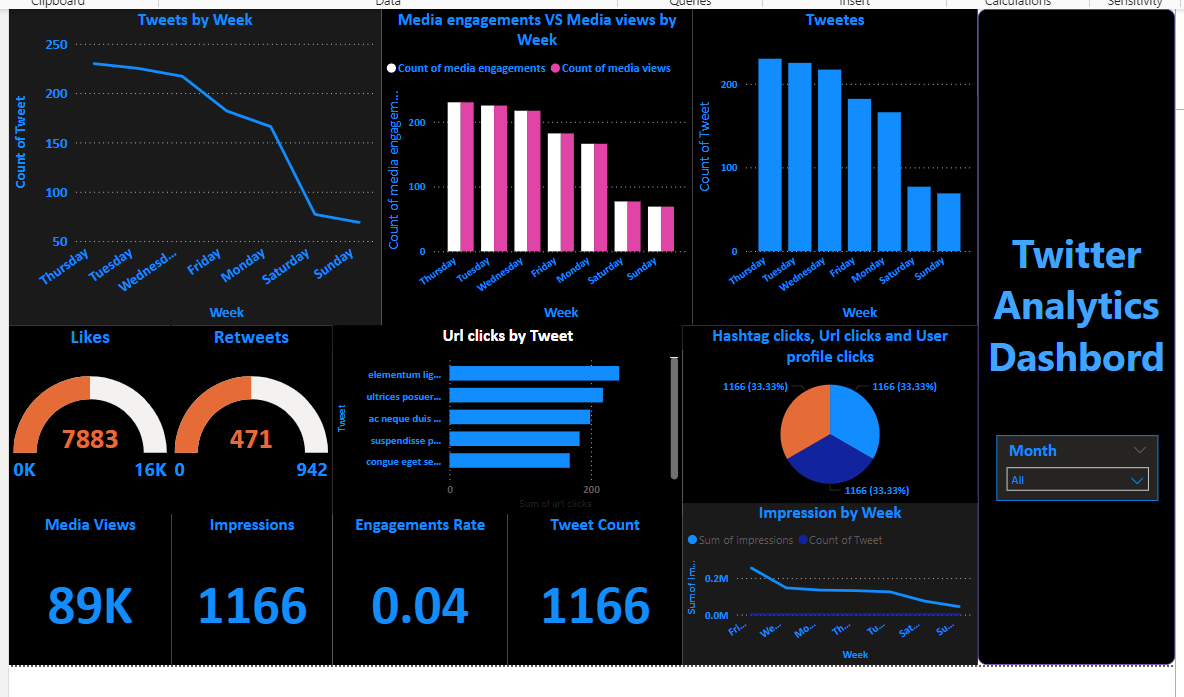

The page's visual inventory and layout, read from the dashboard file:
{"tool":"powerbi","page":{"name":"Page 1","canvas":[1280,720],"ordinal":0},"visuals":[{"type":"textbox","box":[1062.9,0,217.1,720],"z":0},{"type":"card","title":"Media Views","fields":{"Values":["Sum(SocialMedia.media views)"]},"box":[0,554.4,178.4,166],"z":1000},{"type":"card","title":"Impressions","fields":{"Values":["CountNonNull(SocialMedia.impressions)"]},"box":[178.4,554.4,177,166],"z":2000},{"type":"card","title":"Engagements Rate","fields":{"Values":["Avg(SocialMedia.engagement rate)"]},"box":[355.4,554.4,192.1,166],"z":3000},{"type":"card","title":"Tweet Count","fields":{"Values":["CountNonNull(SocialMedia.retweets)"]},"box":[547.5,554.4,192.1,166],"z":4000},{"type":"gauge","title":"Likes","fields":{"Y":["Sum(SocialMedia.likes)"]},"box":[0,347.2,178.4,207.2],"z":5000},{"type":"gauge","title":"Retweets","fields":{"Y":["Sum(SocialMedia.retweets)"]},"box":[177,347.2,178.4,207.2],"z":6000},{"type":"slicer","fields":{"Values":["SocialMedia.MonthName"]},"box":[1083.8,467.6,177.9,72.1],"z":7000},{"type":"lineChart","title":"Tweets by Week","fields":{"Category":["SocialMedia.DayWeek"],"Y":["CountNonNull(SocialMedia.Tweet)"]},"box":[0,0,408.9,347.2],"z":8000},{"type":"lineChart","title":"Impression by Week","fields":{"Category":["SocialMedia.DayWeek"],"Y":["Sum(SocialMedia.impressions)","CountNonNull(SocialMedia.Tweet)"]},"box":[739.6,540.7,323.8,179.8],"z":9000},{"type":"clusteredBarChart","title":"Url clicks by Tweet","fields":{"Category":["SocialMedia.Tweet"],"Y":["Sum(SocialMedia.url clicks)"]},"box":[355.4,347.2,384.2,207.2],"z":10000},{"type":"pieChart","title":"Hashtag clicks, Url clicks and User profile clicks","fields":{"Y":["CountNonNull(SocialMedia.hashtag clicks)","CountNonNull(SocialMedia.url clicks)","CountNonNull(SocialMedia.user profile clicks)"]},"box":[739.6,347.2,323.8,194.9],"z":11000},{"type":"clusteredColumnChart","title":"Media engagements VS Media views by Week","fields":{"Category":["SocialMedia.Week"],"Y":["CountNonNull(SocialMedia.media engagements)","CountNonNull(SocialMedia.media views)"]},"box":[408.9,0,341.7,347.2],"z":12000},{"type":"clusteredColumnChart","title":"Tweetes","fields":{"Category":["SocialMedia.Week"],"Y":["CountNonNull(SocialMedia.Tweet)"]},"box":[750.6,0,312.9,347.2],"z":13000}]}

Visuals, with their boxes in screenshot pixels (x1, y1, x2, y2):
textbox: (973,6,1171,663)
"Media Views" card: (3,512,166,663)
"Impressions" card: (166,512,327,663)
"Engagements Rate" card: (327,512,503,663)
"Tweet Count" card: (503,512,678,663)
"Likes" gauge: (3,323,166,512)
"Retweets" gauge: (165,323,327,512)
slicer - SocialMedia.MonthName: (992,433,1154,498)
"Tweets by Week" lineChart: (3,6,376,323)
"Impression by Week" lineChart: (678,499,973,663)
"Url clicks by Tweet" clusteredBarChart: (327,323,678,512)
"Hashtag clicks, Url clicks and User profile clicks" pieChart: (678,323,973,501)
"Media engagements VS Media views by Week" clusteredColumnChart: (376,6,688,323)
"Tweetes" clusteredColumnChart: (688,6,973,323)
